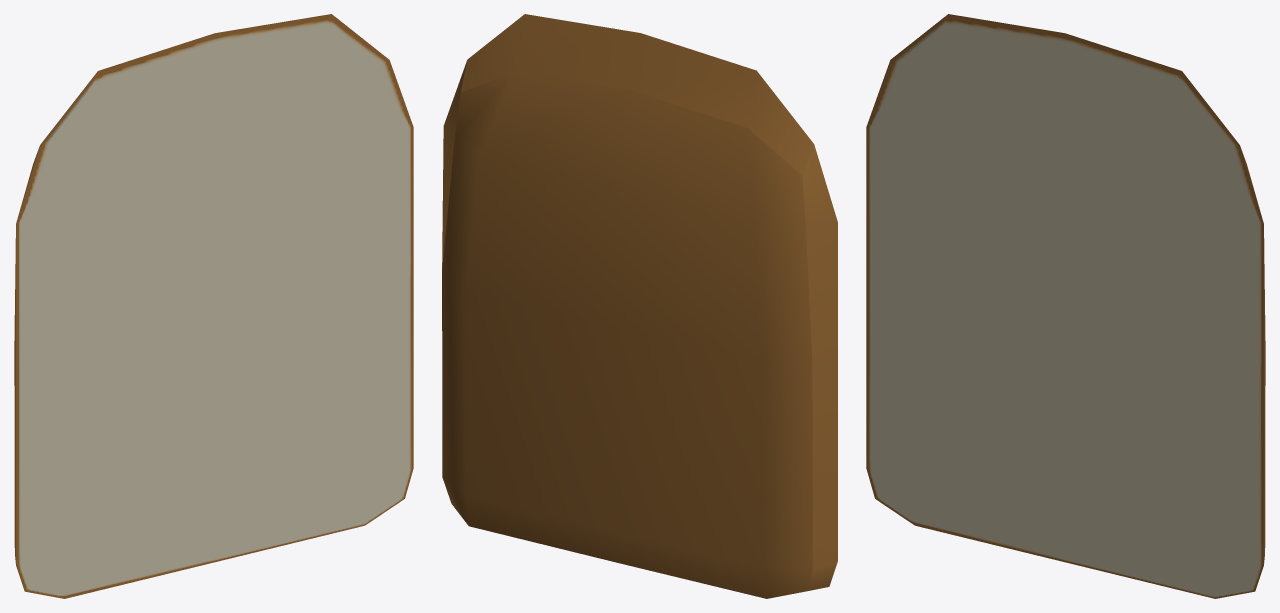
File: Bread_Piece_1_End_MDL.fbx
The picture shows the model from 3 angles, left to right: view 1: azimuth 30°, elevation 25°; view 2: azimuth 150°, elevation 25°; view 3: azimuth 330°, elevation 25°; orthographic projection.
Parts seen in each view (by area): view 1: bread_end; view 2: bread_end; view 3: bread_end.
Boxes of the visible parts, bbox=[...] form: bread_end: bbox=[14, 14, 413, 598]; bread_end: bbox=[442, 14, 837, 598]; bread_end: bbox=[866, 14, 1265, 598].
Bounding box in the file's own units: 14.44 × 18.37 × 1.65.
